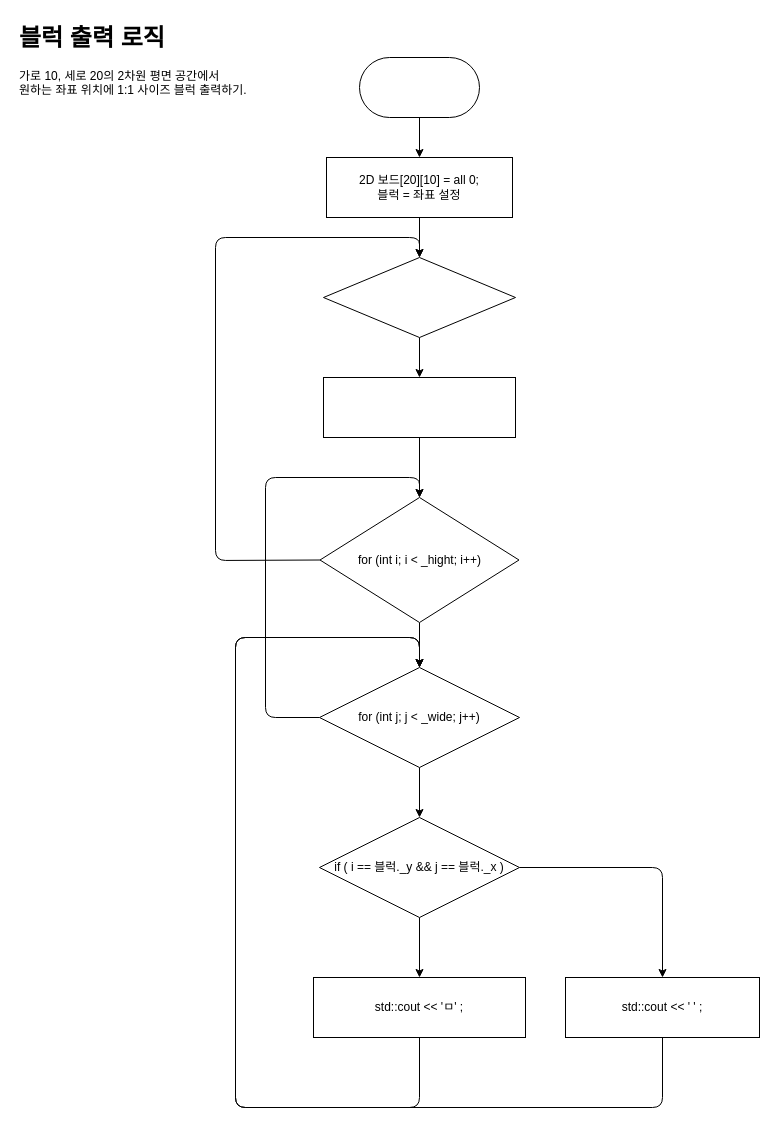
This 777x1133 diagram has some shape labels left out. The shapes that lost their labels are listed below. From the top down, each one's centre as x and y in pixels, then its label:
At point (419, 87): "시작".
At point (419, 297): "while(1)".
At point (419, 407): "화면 초기화".
